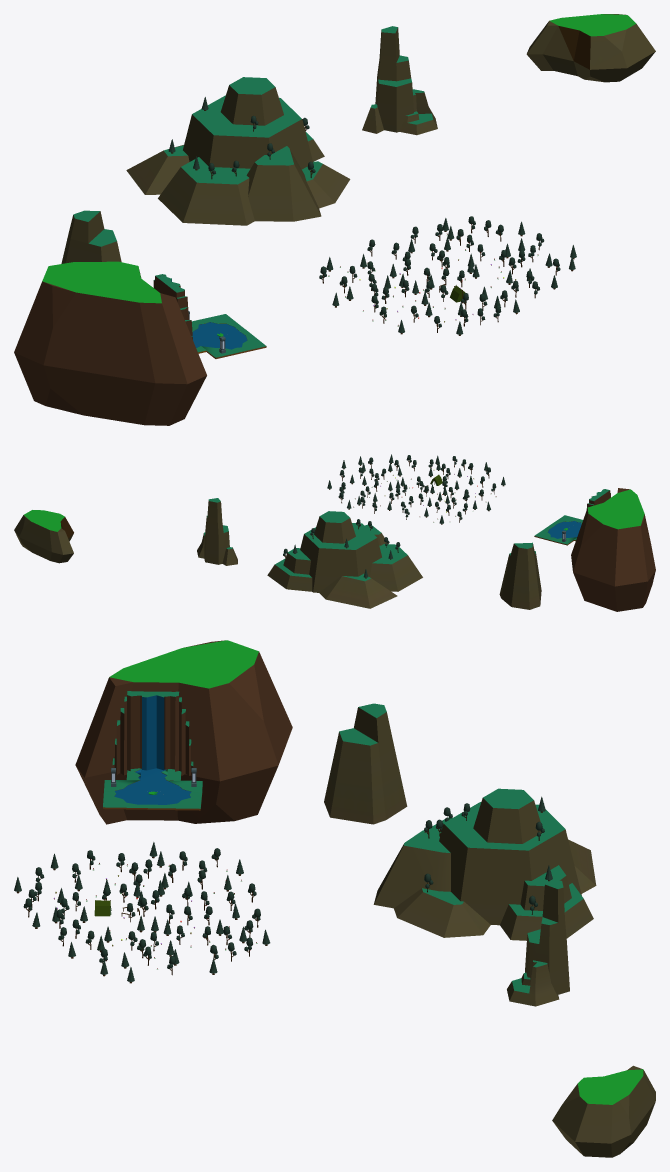
The model's file is Cenario_Floresta.obj.
The picture shows the model from 3 angles, top to bottom: view 1: azimuth 30°, elevation 25°; view 2: azimuth 150°, elevation 25°; view 3: azimuth 270°, elevation 25°; orthographic projection. The views are drawn at different scales.
Visible parts, largest first — view 1: Mesh1_Group1_Model.027, Mesh1_Group1_Model.040, Mesh1_Group1_Model.035, Mesh1_Group1_Model.036, Mesh1_Group1_Model.030, Mesh1_Plate_River_Corner_Dirt_Model.001; view 2: Mesh1_Group1_Model.040, Mesh1_Group1_Model.027, Mesh1_Group1_Model.035, Mesh1_Group1_Model.030, Mesh1_Group1_Model.036, Mesh1_Plate_River_Corner_Dirt_Model.006, Mesh1_Plate_River_Corner_Dirt_Model.001; view 3: Mesh1_Group1_Model.040, Mesh1_Group1_Model.027, Mesh1_Group1_Model.030, Mesh1_Group1_Model.035, Mesh1_Group1_Model.036, Mesh1_Brown_Waterfall_Model.002, Mesh1_Brown_Cliff_End_Model.003, Mesh1_Brown_Cliff_End_Model.002, Mesh1_Plate_River_Corner_Dirt_Model.006, Mesh1_Plate_River_Corner_Dirt_Model.001.
Boxes of the visible parts, <box> form: Mesh1_Group1_Model.027: <box>14,261,206,425</box>; Mesh1_Group1_Model.040: <box>126,77,350,225</box>; Mesh1_Group1_Model.035: <box>526,14,655,82</box>; Mesh1_Group1_Model.036: <box>362,26,437,135</box>; Mesh1_Group1_Model.030: <box>61,210,121,263</box>; Mesh1_Plate_River_Corner_Dirt_Model.001: <box>223,330,266,353</box>; Mesh1_Group1_Model.040: <box>267,511,422,608</box>; Mesh1_Group1_Model.027: <box>571,488,655,611</box>; Mesh1_Group1_Model.035: <box>14,510,73,563</box>; Mesh1_Group1_Model.030: <box>499,542,541,609</box>; Mesh1_Group1_Model.036: <box>197,498,237,565</box>; Mesh1_Plate_River_Corner_Dirt_Model.006: <box>534,525,565,540</box>; Mesh1_Plate_River_Corner_Dirt_Model.001: <box>549,515,580,528</box>; Mesh1_Group1_Model.040: <box>373,788,596,940</box>; Mesh1_Group1_Model.027: <box>75,640,292,824</box>; Mesh1_Group1_Model.030: <box>324,703,407,824</box>; Mesh1_Group1_Model.035: <box>552,1065,655,1157</box>; Mesh1_Group1_Model.036: <box>507,879,569,1006</box>; Mesh1_Brown_Waterfall_Model.002: <box>130,691,175,770</box>; Mesh1_Brown_Cliff_End_Model.003: <box>175,691,193,775</box>; Mesh1_Brown_Cliff_End_Model.002: <box>112,691,130,775</box>; Mesh1_Plate_River_Corner_Dirt_Model.006: <box>151,794,201,810</box>; Mesh1_Plate_River_Corner_Dirt_Model.001: <box>103,793,152,809</box>.
Size of the model in its own units: 292 by 51 by 182.
